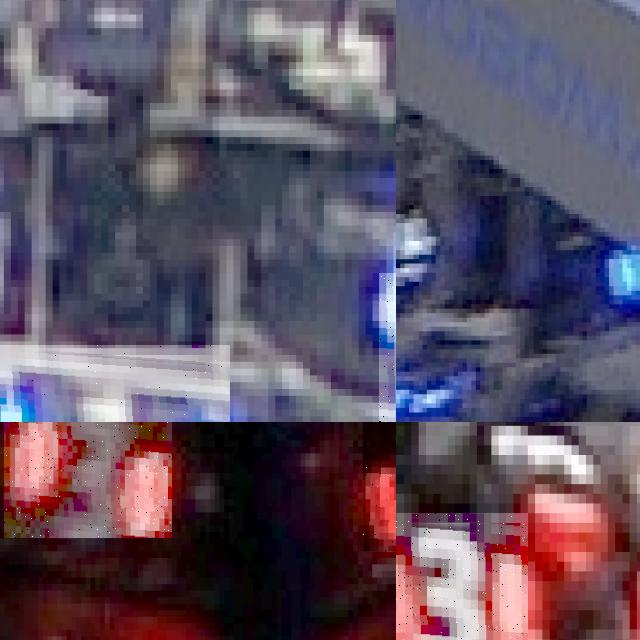B1: (0, 345, 230, 422)
R3: (4, 422, 171, 538), (396, 513, 527, 640), (362, 422, 396, 551)
